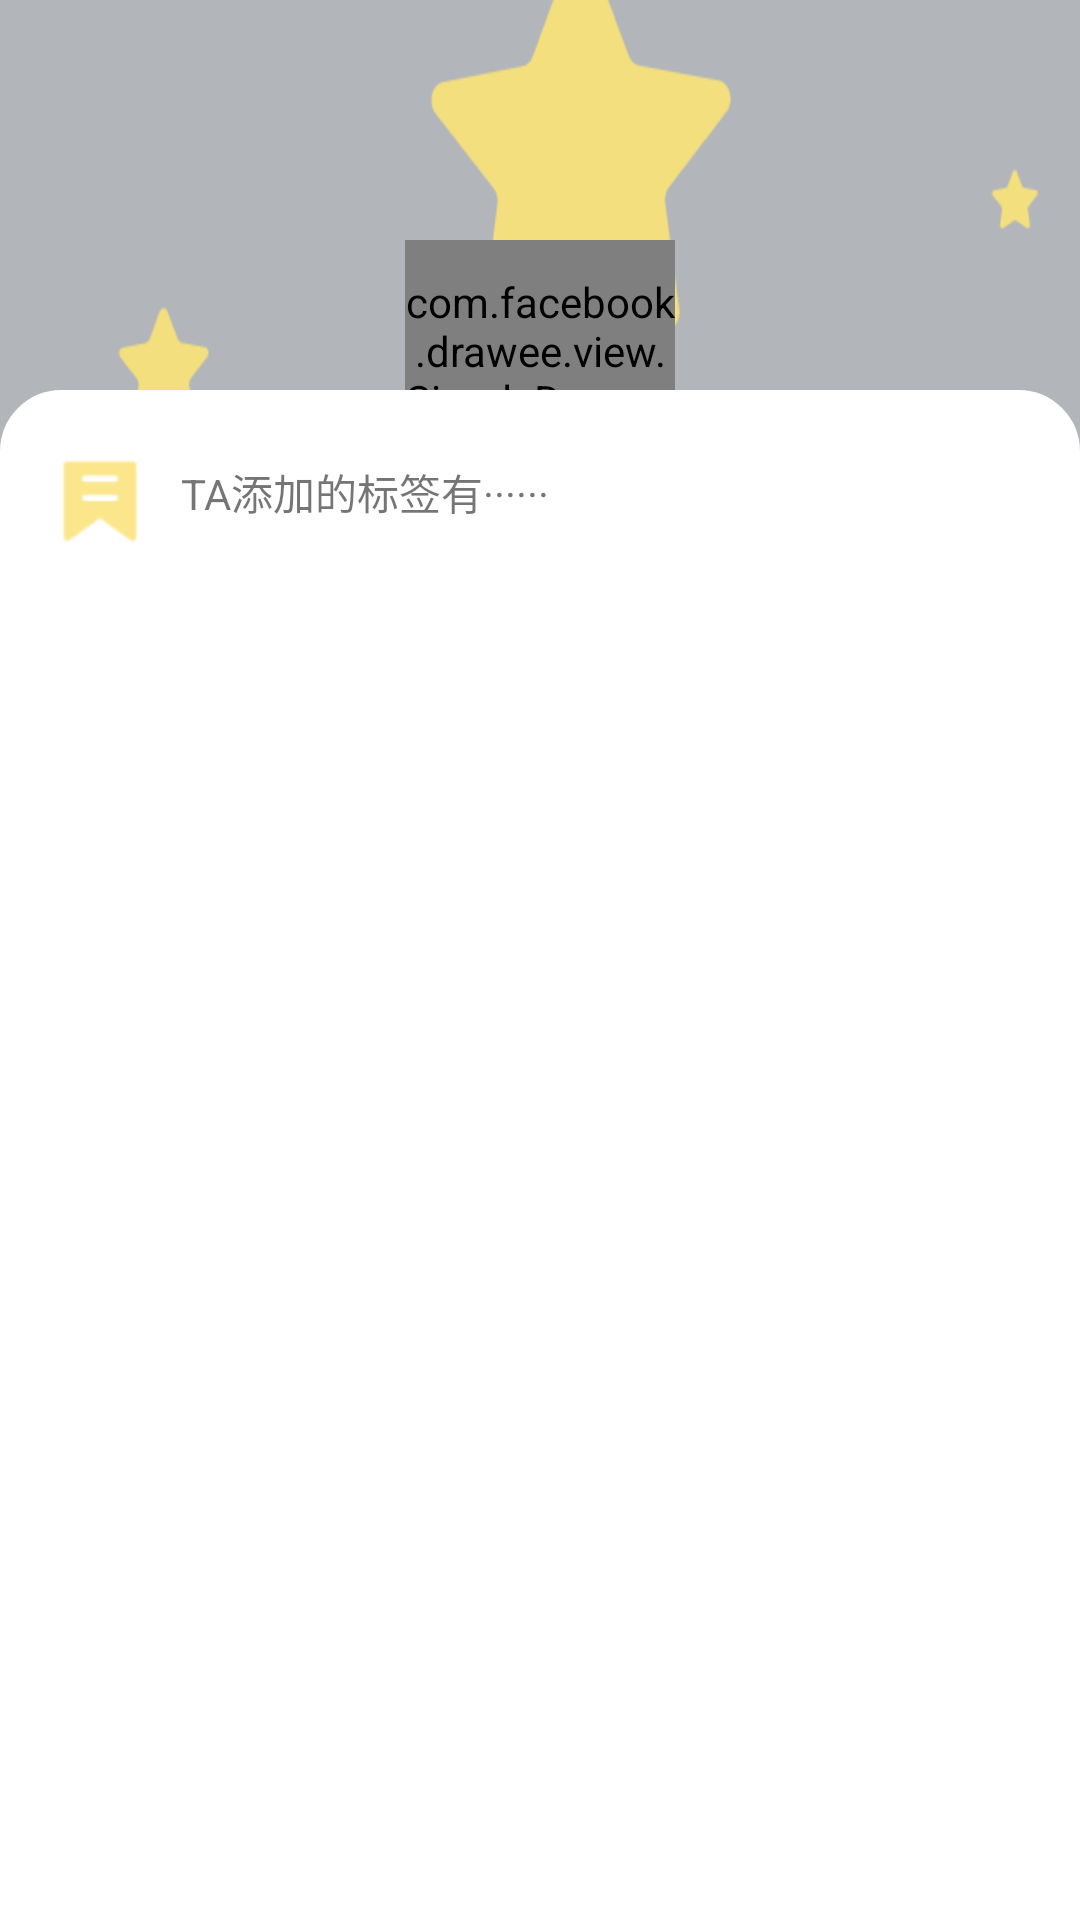

Screen size 1080px x 1920px. Icon name, then its center in pixels as point (x, y):
tag: point (100, 501)
